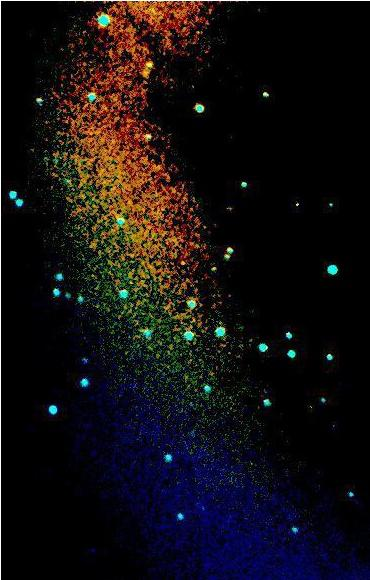star: (167, 251, 197, 281)
